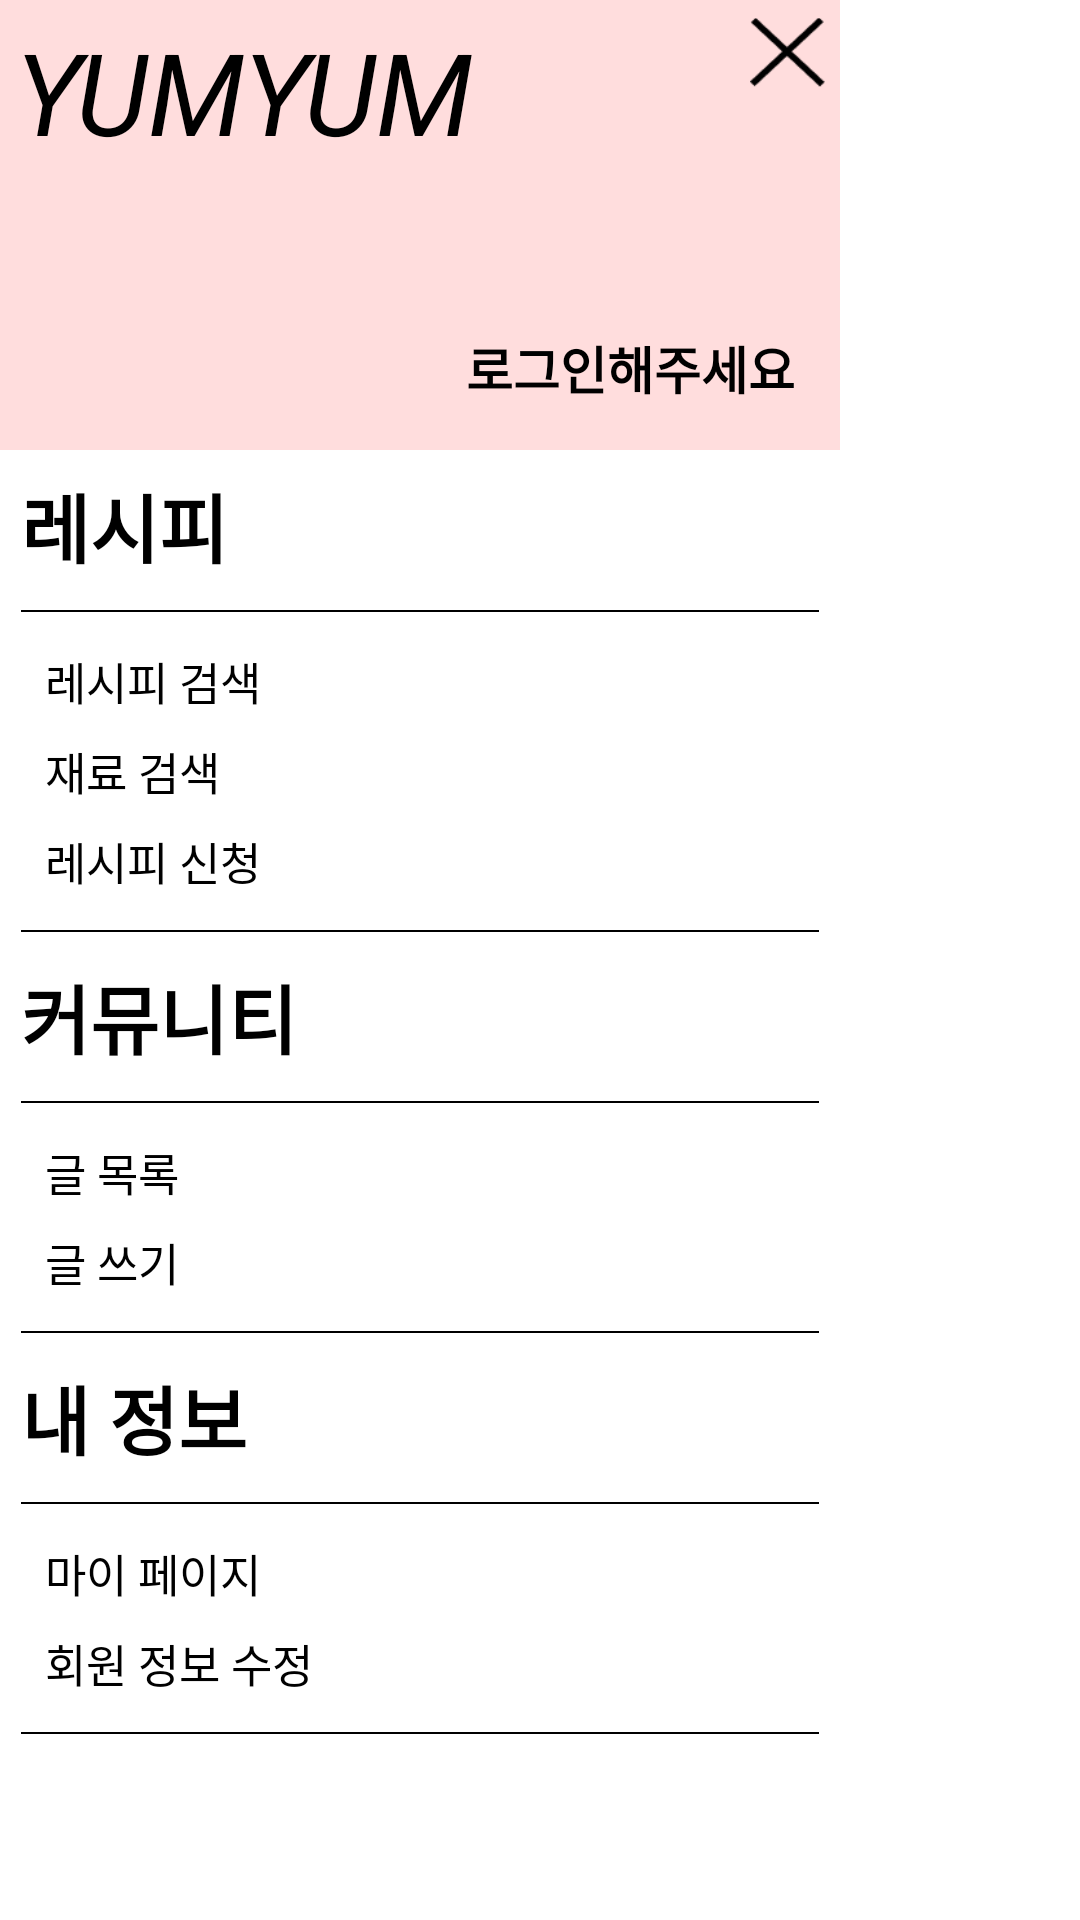

Where to tap for icons on this 1080 x 1920 app screen, as point (x, y):
cancel: point (787, 52)
